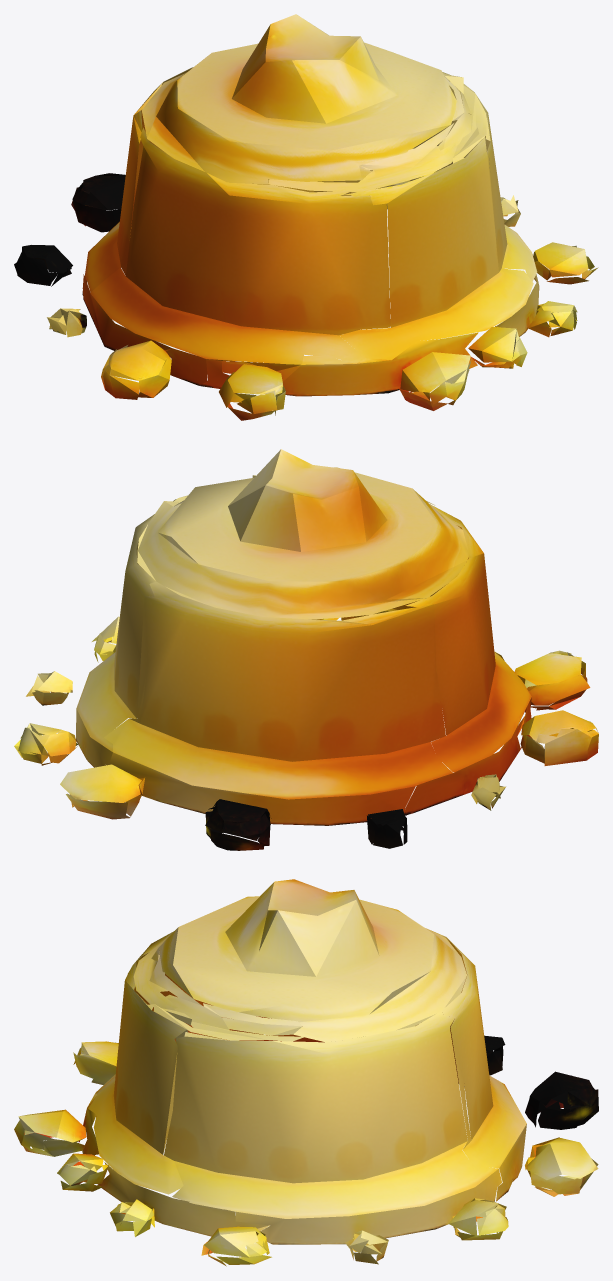
The model's file is food_pile_small.fbx.
The picture shows the model from 3 angles, top to bottom: view 1: azimuth 30°, elevation 25°; view 2: azimuth 150°, elevation 25°; view 3: azimuth 270°, elevation 25°; orthographic projection. The views are drawn at different scales.
Visible parts, largest first — view 1: food_pile_small; view 2: food_pile_small; view 3: food_pile_small.
Boxes of the visible parts, x1=… form: food_pile_small: x1=14, y1=14, x2=598, y2=420; food_pile_small: x1=14, y1=449, x2=598, y2=850; food_pile_small: x1=14, y1=879, x2=598, y2=1266.
Size of the model in its own units: 0.3921 by 0.2042 by 0.4132.
1 material, 1 textured.
